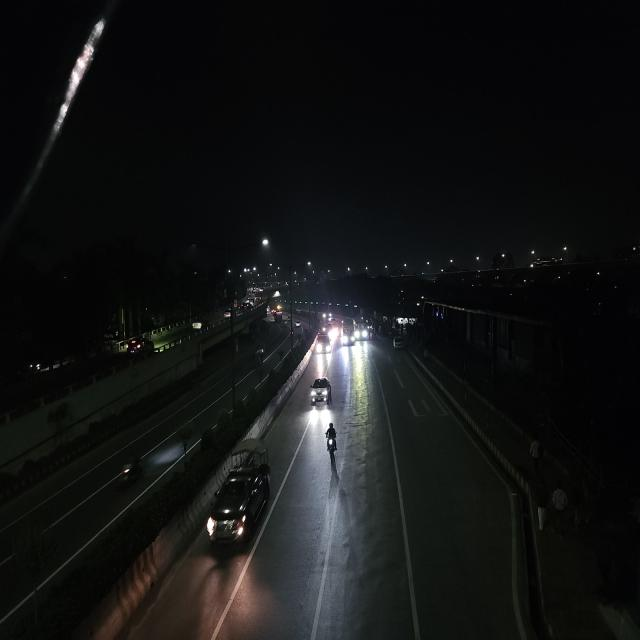bus: (340, 316, 356, 347), (352, 313, 368, 343)
car: (202, 446, 273, 558), (306, 374, 334, 410), (125, 335, 155, 358), (315, 331, 332, 356), (392, 333, 406, 352), (191, 317, 204, 333)
motorcycle: (118, 451, 145, 490), (322, 420, 340, 466)
